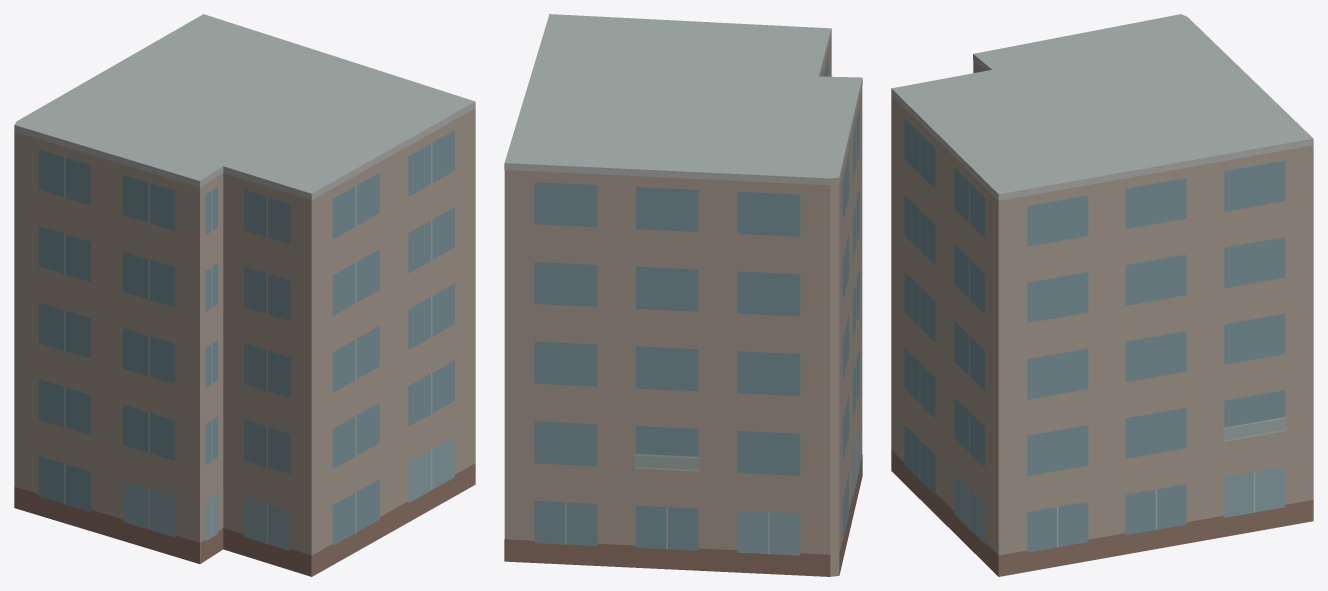
Rendered from survey-upis-32772121.glb.
3 views of the same model, side by side, from view 1: azimuth 30°, elevation 25°; view 2: azimuth 150°, elevation 25°; view 3: azimuth 270°, elevation 25° (orthographic). The views are drawn at different scales.
Parts seen in each view (by area): view 1: survey-upis-32772121.tmp; view 2: survey-upis-32772121.tmp; view 3: survey-upis-32772121.tmp.
Part boxes in pixels (x1=…): survey-upis-32772121.tmp: x1=14, y1=14, x2=475, y2=576; survey-upis-32772121.tmp: x1=504, y1=14, x2=862, y2=576; survey-upis-32772121.tmp: x1=891, y1=14, x2=1313, y2=576.
Size of the model in its own units: 14.27 by 14.11 by 14.12.
